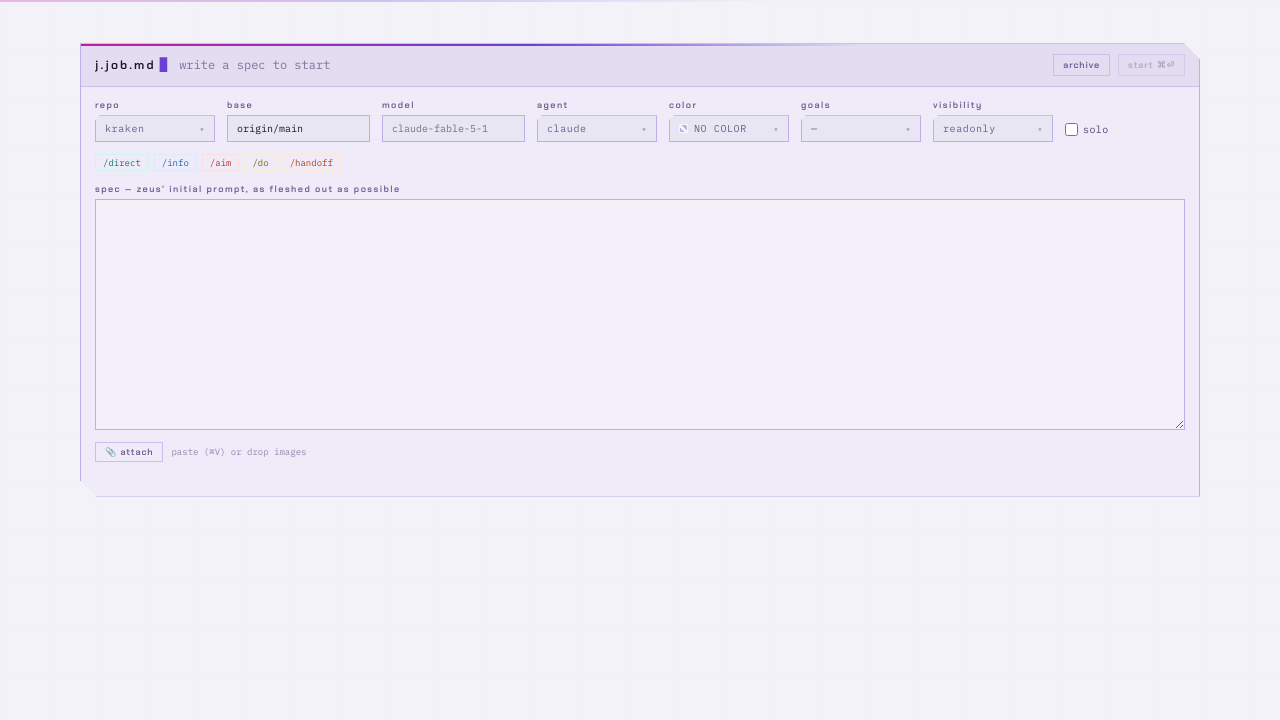
Test: EditorOverlay modes › a repo pick lands in the autosave payload
The width and height of the screenshot is (1280, 720).
Click the button with id "f-repo": (155, 129) [95, 115, 215, 142]
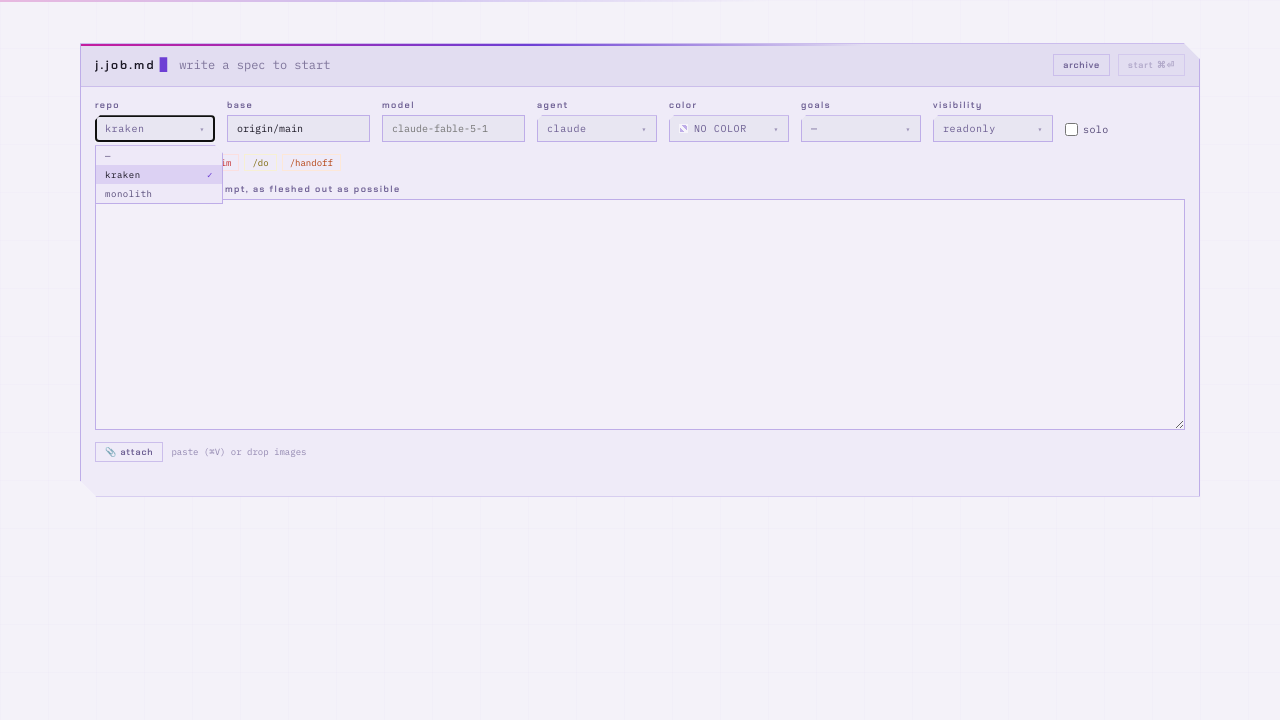
Click the option "monolith": (129, 194) [105, 188, 152, 199]
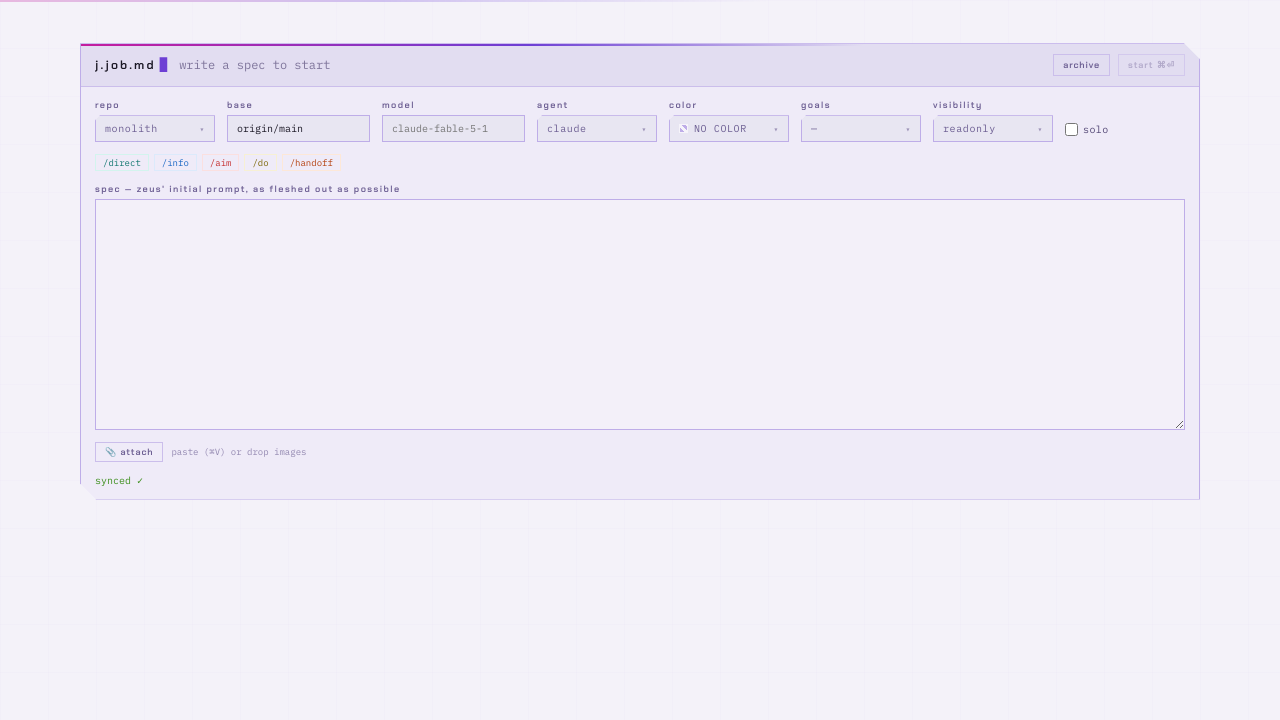
Expected: the list with class "colorsel-menu" is gone
Expected: the button with id "f-repo" shows "monolith", [95, 115, 215, 142]
